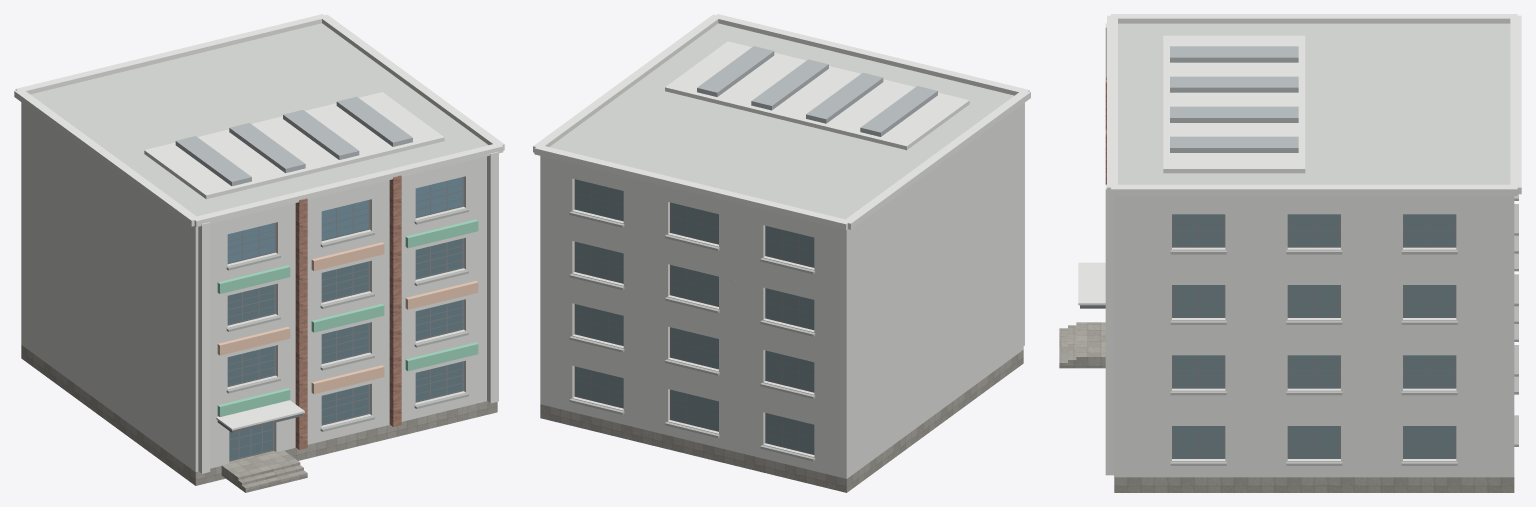
3 renders of one model, left to right at view 1: azimuth 30°, elevation 25°; view 2: azimuth 150°, elevation 25°; view 3: azimuth 270°, elevation 25°, orthographic. The views are drawn at different scales.
Visible parts, largest first — view 1: east-wing__panel, east-wing__roof, east-wing__cap, east-wing__glass, east-wing__brick, east-wing__steel, east-wing__stone, east-wing__frame, east-wing__mint, east-wing__clerestoryglass, east-wing__basepaint, east-wing__sill (+2 smaller); view 2: east-wing__panel, east-wing__roof, east-wing__cap, east-wing__sideglass, east-wing__stone, east-wing__steel, east-wing__frame, east-wing__sill; view 3: east-wing__panel, east-wing__roof, east-wing__cap, east-wing__sideglass, east-wing__steel, east-wing__frame, east-wing__stone, east-wing__sill, east-wing__stair-front, east-wing__threshold-front.
Boxes of the visible parts, box(x1,y1,x2,y2) form: east-wing__panel: box(21, 102, 486, 471); east-wing__roof: box(30, 23, 488, 216); east-wing__cap: box(14, 14, 504, 473); east-wing__glass: box(227, 238, 462, 460); east-wing__brick: box(295, 175, 401, 449); east-wing__steel: box(175, 96, 412, 186); east-wing__stone: box(21, 345, 497, 485); east-wing__frame: box(227, 176, 463, 461); east-wing__mint: box(217, 219, 478, 416); east-wing__clerestoryglass: box(227, 177, 462, 262); east-wing__basepaint: box(217, 242, 478, 393); east-wing__sill: box(226, 208, 468, 431); east-wing__panel: box(540, 103, 1023, 478); east-wing__roof: box(549, 23, 1013, 219); east-wing__cap: box(533, 14, 1030, 345); east-wing__sideglass: box(575, 179, 814, 453); east-wing__stone: box(540, 350, 1023, 492); east-wing__steel: box(697, 46, 937, 136); east-wing__frame: box(574, 179, 814, 454); east-wing__sill: box(569, 211, 815, 461); east-wing__panel: box(1114, 196, 1514, 477); east-wing__roof: box(1118, 23, 1510, 184); east-wing__cap: box(1078, 14, 1521, 475); east-wing__sideglass: box(1173, 214, 1454, 457); east-wing__steel: box(1170, 46, 1298, 152); east-wing__frame: box(1172, 214, 1456, 458); east-wing__stone: box(1114, 477, 1514, 492); east-wing__sill: box(1170, 194, 1518, 465); east-wing__stair-front: box(1059, 322, 1084, 368); east-wing__threshold-front: box(1084, 322, 1105, 368).
Bounding box in the file's own units: 18.66 × 15.46 × 20.8.
Materials: 15 (2 with a texture image).
